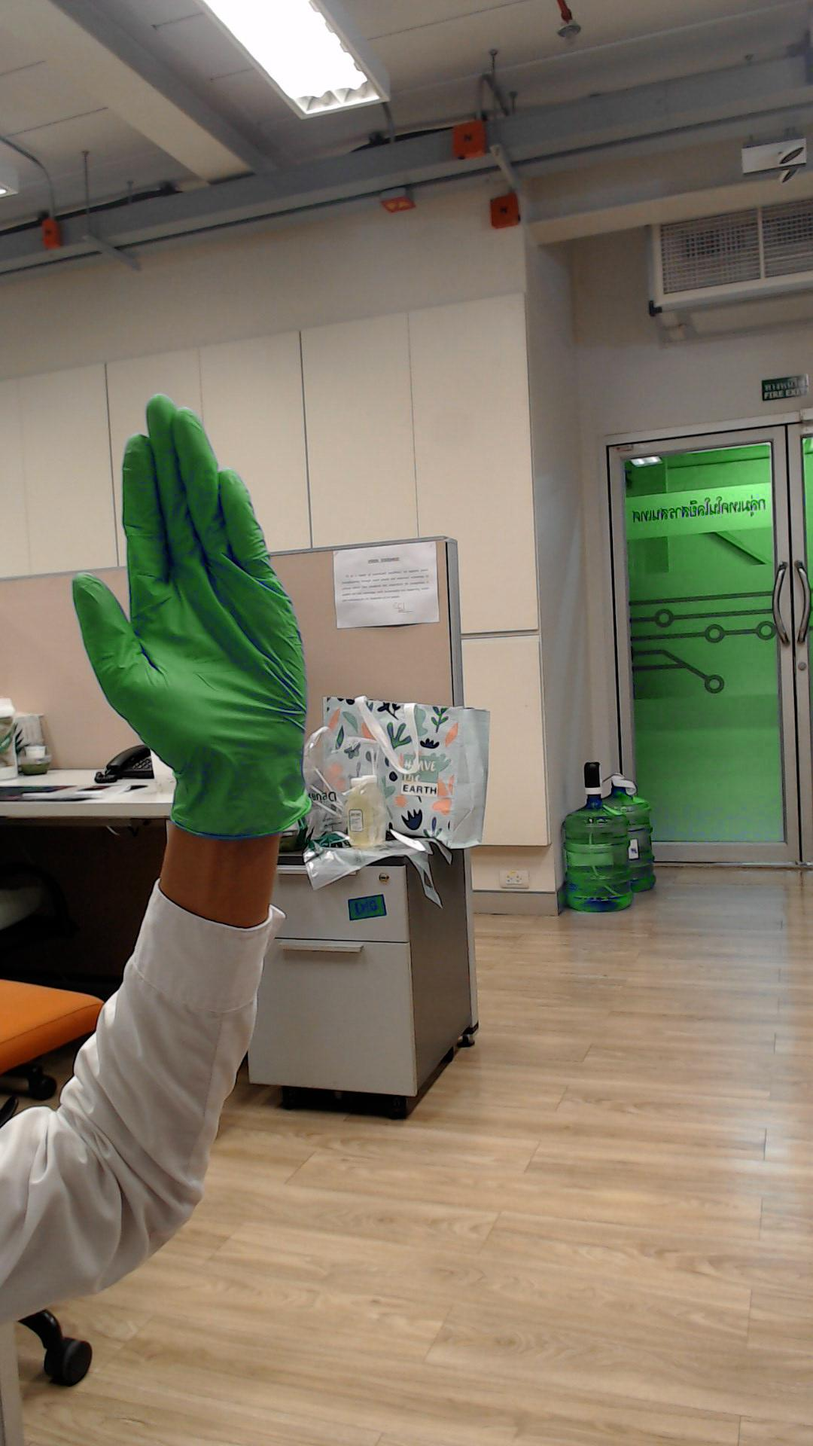gloves: (62, 384, 317, 779)
